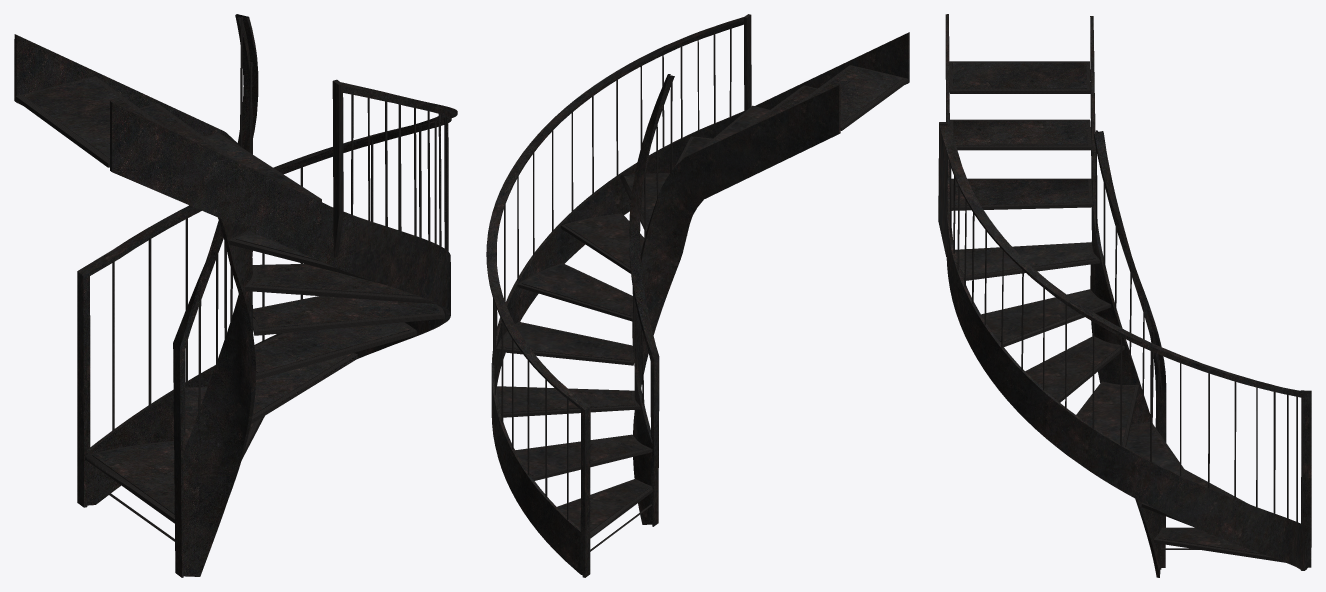
Rendered from Stairs.fbx.
3 views of the same model, side by side, from view 1: azimuth 30°, elevation 25°; view 2: azimuth 150°, elevation 25°; view 3: azimuth 270°, elevation 25° (orthographic). The views are drawn at different scales.
Visible parts, largest first — view 1: stairs; view 2: stairs; view 3: stairs.
Part boxes in pixels (bbox=[...]): stairs: bbox=[14, 14, 457, 577]; stairs: bbox=[486, 14, 909, 577]; stairs: bbox=[938, 14, 1311, 577].
Bounding box in the file's own units: 216 × 300 × 212.
1 material, 1 textured.
